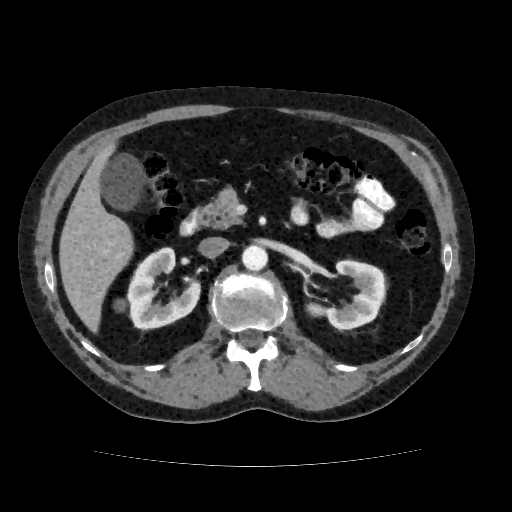Lesion: (105, 293, 132, 316)
